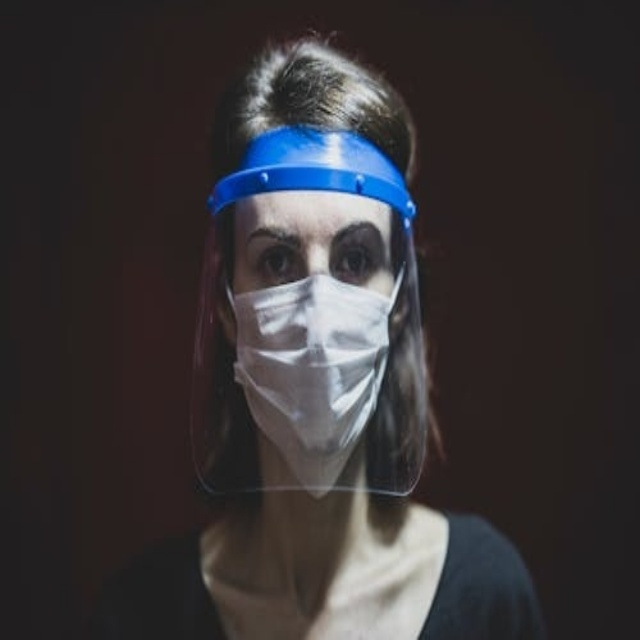Mascara: (228, 262, 403, 492)
Sin_gafas: (233, 206, 396, 304)
